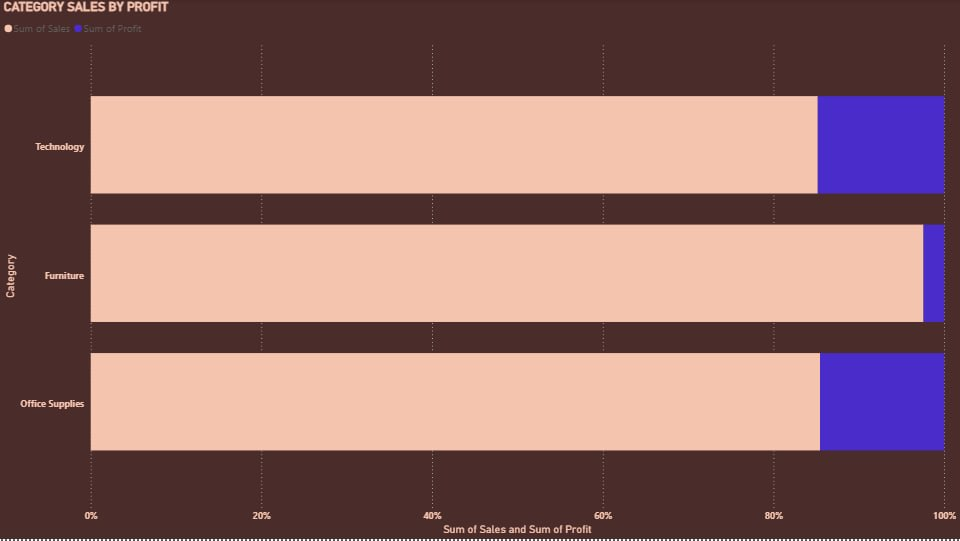

Layout of this report page (visuals, bound fields, positions):
{"tool":"powerbi","page":{"name":"Page 6","canvas":[1280,720],"ordinal":5},"visuals":[{"type":"hundredPercentStackedBarChart","title":"CATEGORY SALES BY PROFIT","fields":{"Category":["Sample - Superstore.Category"],"Y":["Sum(Sample - Superstore.Sales)","Sum(Sample - Superstore.Profit)"]},"box":[0,0,1280,720],"z":0}]}

Visuals, with their boxes in screenshot pixels (x1, y1, x2, y2), scaled from the page's 1280x720 canvas onto the 960x541 screenshot:
"CATEGORY SALES BY PROFIT" hundredPercentStackedBarChart: (left=0, top=0, right=959, bottom=540)
